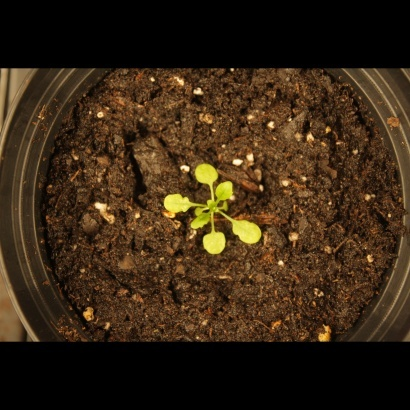leaf: (229, 218, 267, 246), (160, 191, 195, 215), (200, 229, 229, 256), (192, 161, 220, 186), (214, 181, 237, 204), (191, 211, 214, 234)
